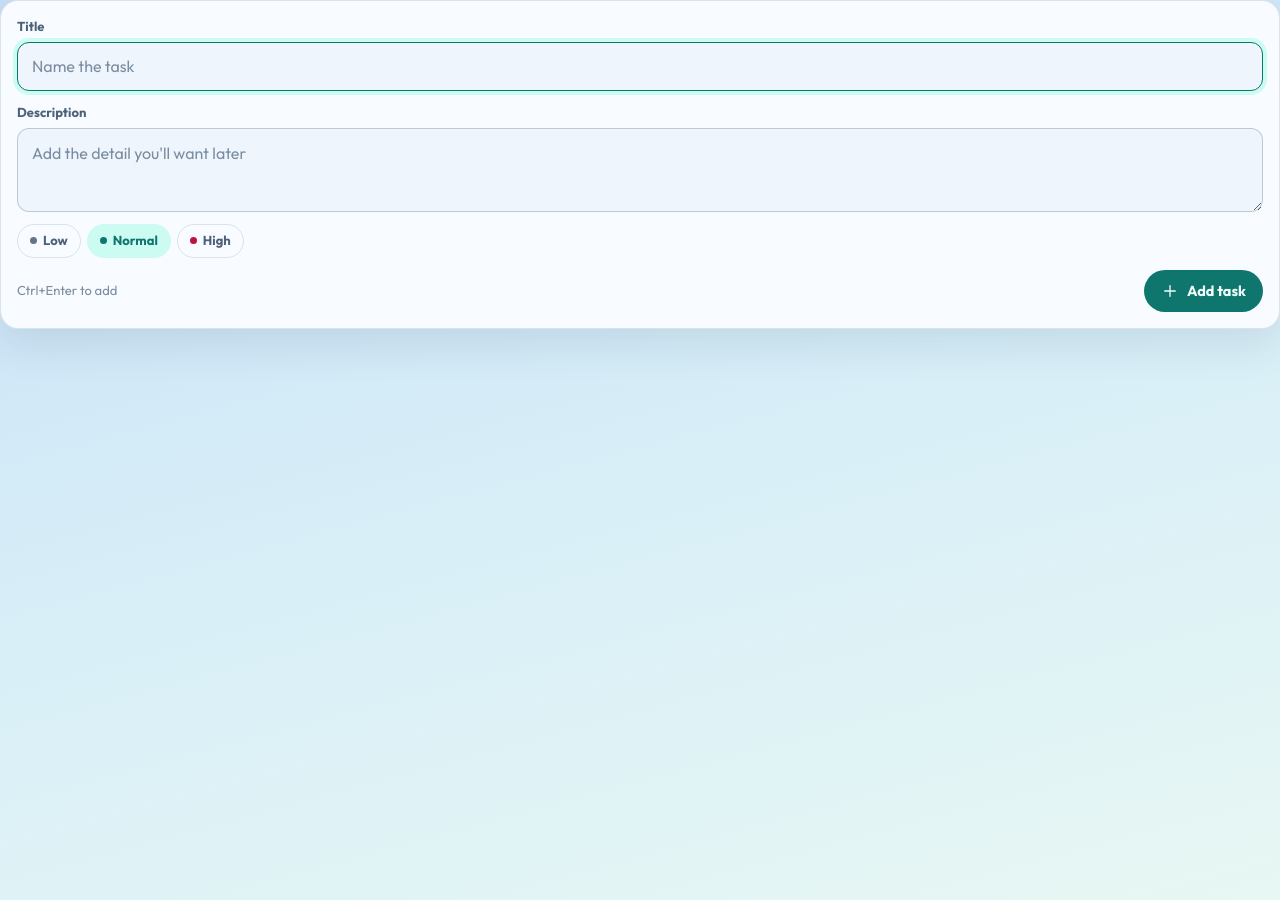
Composer › asks for a title before creating a task
The width and height of the screenshot is (1280, 900).
Click the button "Add task": (1204, 291) [1144,270,1263,312]
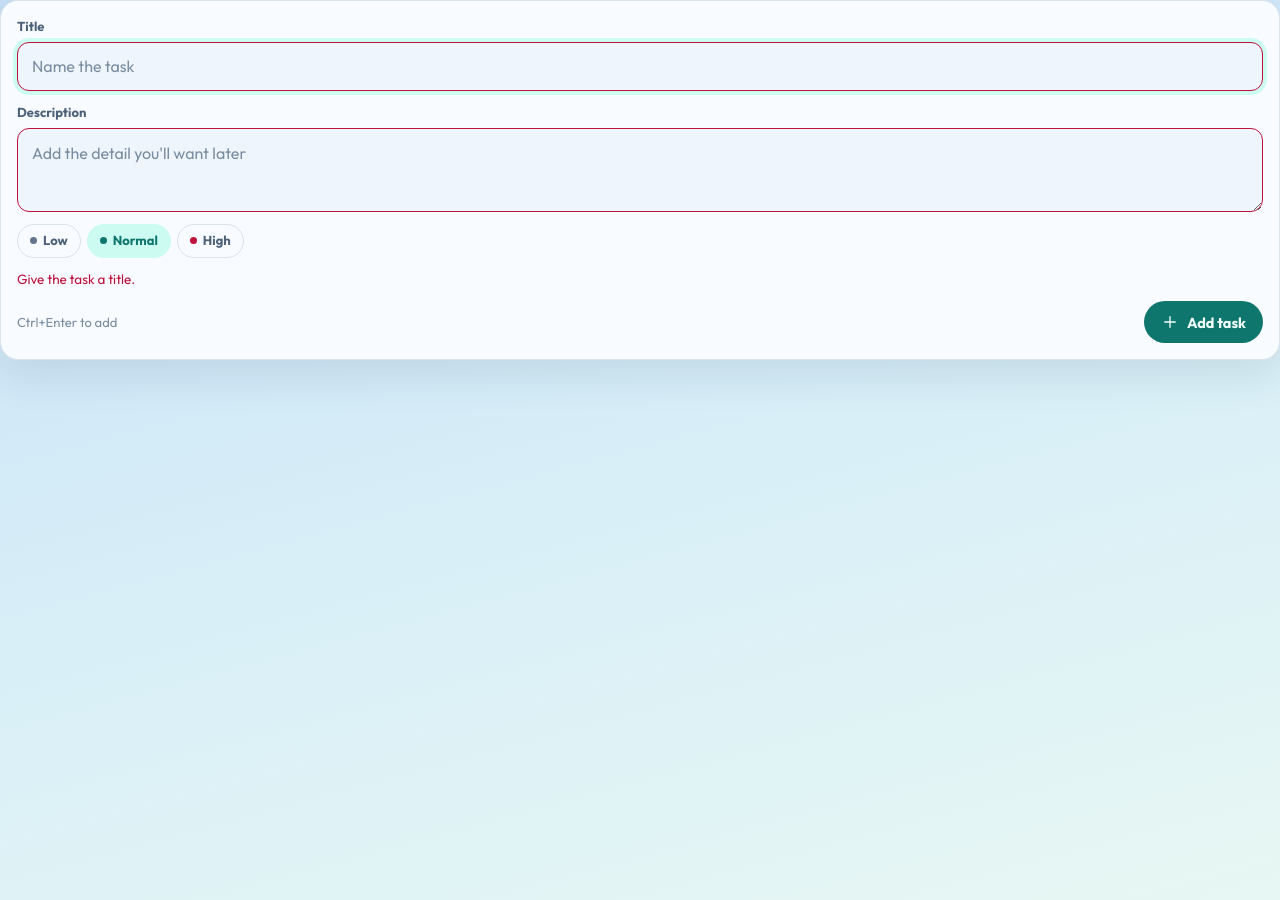
Result: the message reads "Give the task a title." at [17,270,135,288]
